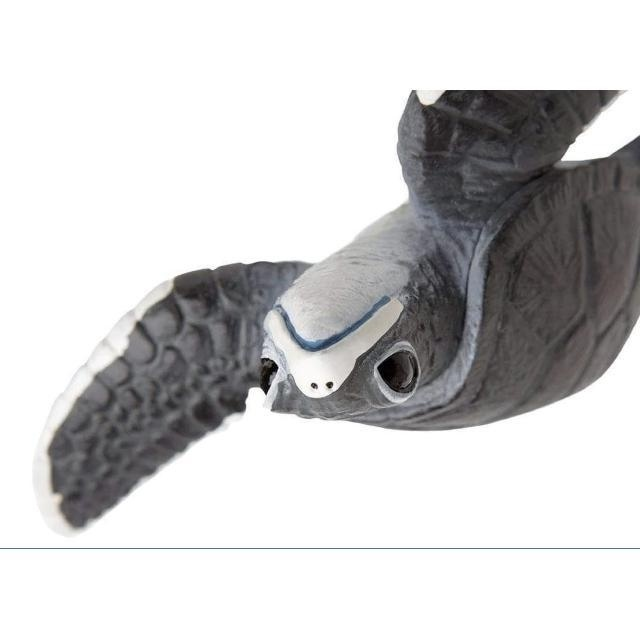turtle: (30, 92, 638, 537)
